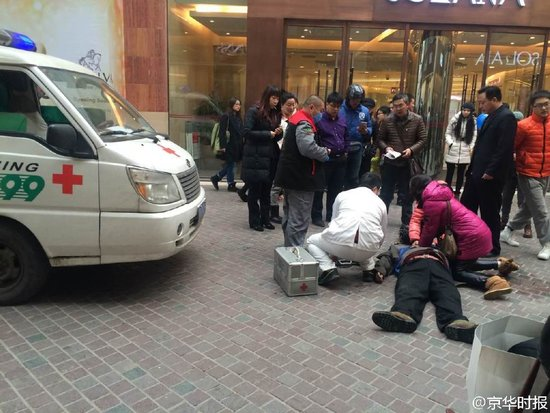10+: (204, 63, 550, 342)
down: (377, 228, 467, 335)
